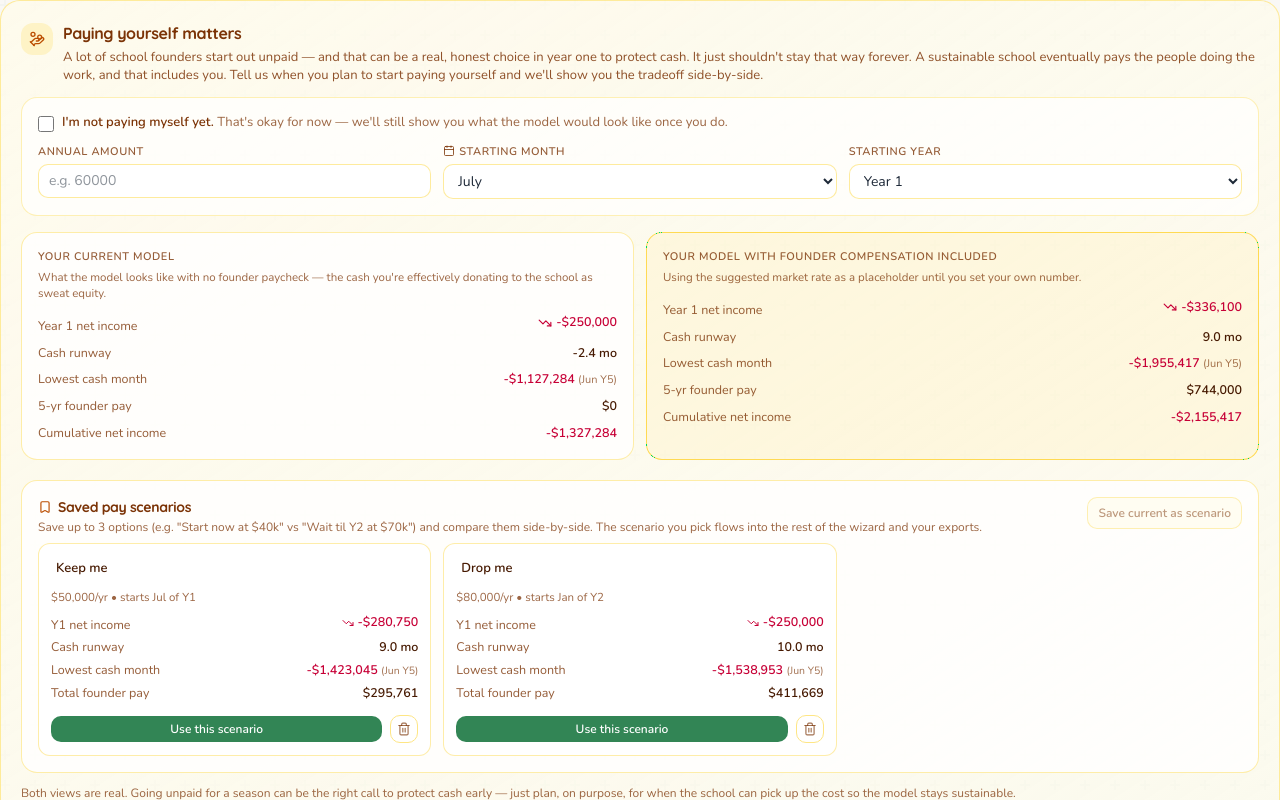
Scenario: FounderCompTeachingPanel saved scenarios (Task #693) › removes a saved scenario when the delete button is clicked
Check: the element with test id "founder-comp-scenario-scn-drop" is shown, box [443, 543, 837, 756]
Click the button with test id "founder-comp-scenario-scn-drop-delete": [810, 729] box [796, 715, 824, 743]
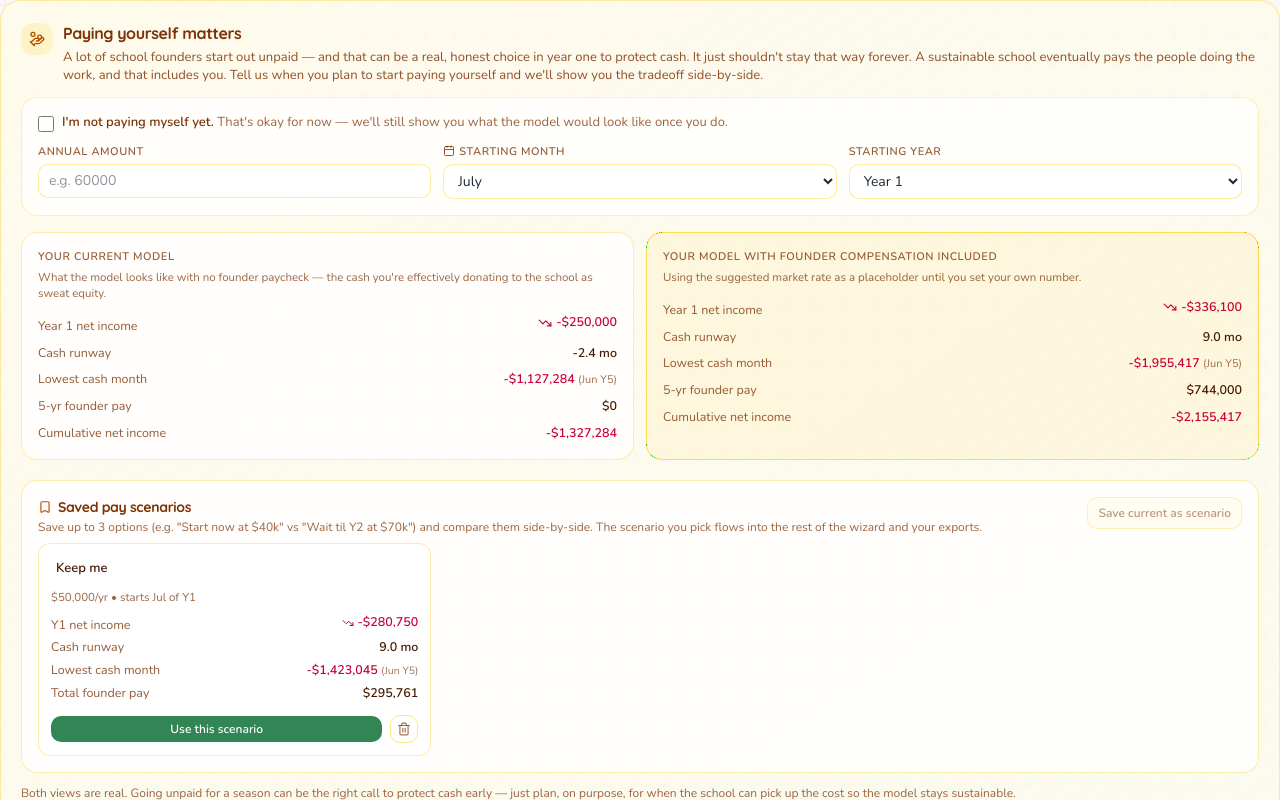
Check: the element with test id "founder-comp-scenario-scn-keep" is shown, box [38, 543, 431, 756]
Check: the element with test id "founder-comp-scenario-scn-drop" is gone
